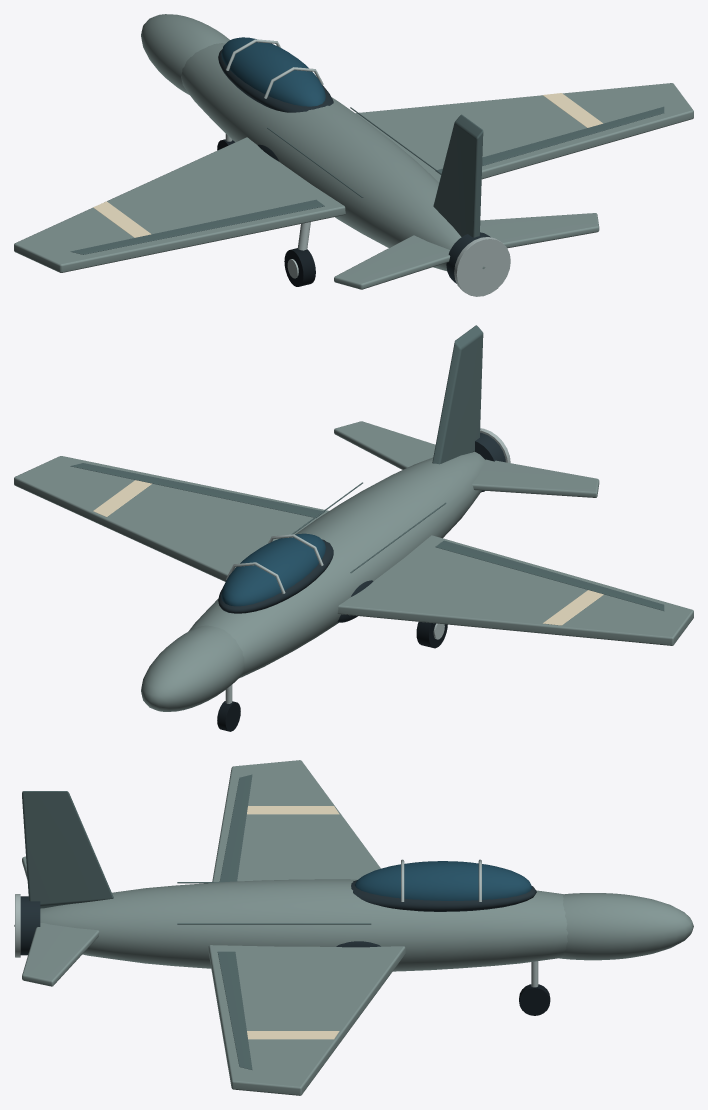
The model's file is aircraft.glb.
3 views of the same model, one above another, from view 1: azimuth 30°, elevation 25°; view 2: azimuth 150°, elevation 25°; view 3: azimuth 270°, elevation 25° (orthographic).
Visible parts, largest first — view 1: Mesh_Aircraft_Root_airframe, Mesh_Aircraft_Root_panel, Canopy, Mesh_Aircraft_Root_alloy, Mesh_Aircraft_Root_graphite, Mesh_Aircraft_Root_ivory, Mesh_Aircraft_Root_rubber; view 2: Mesh_Aircraft_Root_airframe, Mesh_Aircraft_Root_panel, Canopy, Mesh_Aircraft_Root_graphite, Mesh_Aircraft_Root_ivory, Mesh_Aircraft_Root_rubber, Mesh_Aircraft_Root_alloy; view 3: Mesh_Aircraft_Root_airframe, Mesh_Aircraft_Root_panel, Canopy, Mesh_Aircraft_Root_graphite, Mesh_Aircraft_Root_ivory, Mesh_Aircraft_Root_alloy, Mesh_Aircraft_Root_rubber.
Boxes of the visible parts, x1,y1,x2,y2 form: Mesh_Aircraft_Root_airframe: [14, 14, 693, 289]; Mesh_Aircraft_Root_panel: [70, 106, 664, 254]; Canopy: [221, 37, 325, 106]; Mesh_Aircraft_Root_alloy: [225, 39, 510, 296]; Mesh_Aircraft_Root_graphite: [218, 49, 490, 283]; Mesh_Aircraft_Root_ivory: [93, 93, 602, 237]; Mesh_Aircraft_Root_rubber: [217, 139, 315, 286]; Mesh_Aircraft_Root_airframe: [14, 421, 693, 711]; Mesh_Aircraft_Root_panel: [70, 325, 664, 610]; Canopy: [221, 533, 325, 606]; Mesh_Aircraft_Root_graphite: [218, 432, 505, 622]; Mesh_Aircraft_Root_ivory: [93, 480, 603, 625]; Mesh_Aircraft_Root_rubber: [217, 622, 447, 731]; Mesh_Aircraft_Root_alloy: [225, 428, 510, 703]; Mesh_Aircraft_Root_airframe: [14, 760, 693, 1095]; Mesh_Aircraft_Root_panel: [22, 774, 371, 1069]; Canopy: [355, 861, 532, 900]; Mesh_Aircraft_Root_graphite: [20, 880, 536, 955]; Mesh_Aircraft_Root_ivory: [247, 806, 339, 1039]; Mesh_Aircraft_Root_alloy: [15, 859, 538, 987]; Mesh_Aircraft_Root_rubber: [519, 984, 550, 1015].
Size of the model in its own units: 9.99 by 3.19 by 8.75.
